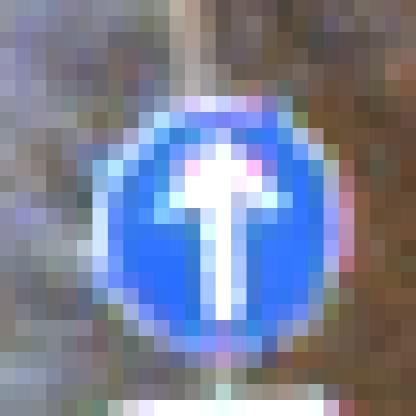straight: (61, 80, 370, 368)
